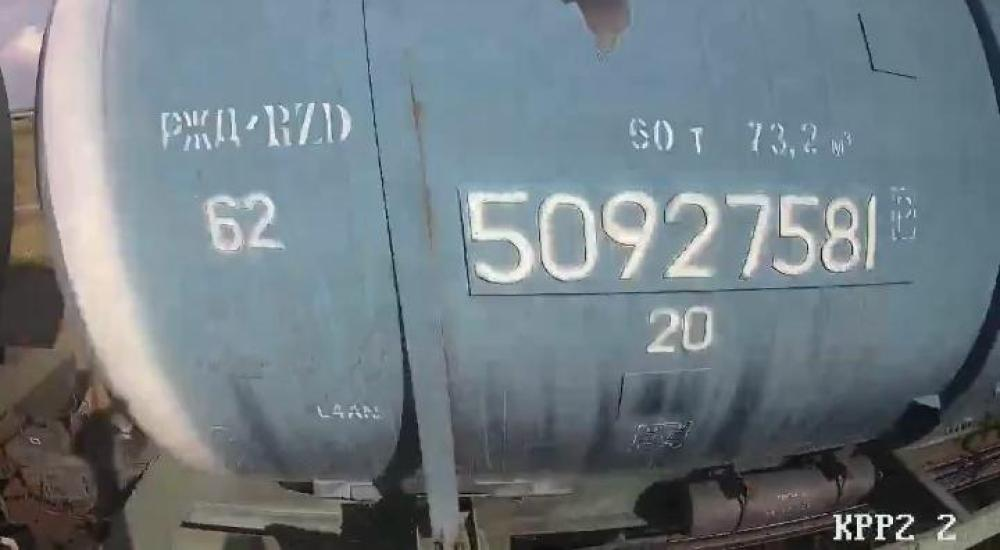Wagon-number: (462, 183, 885, 288)
